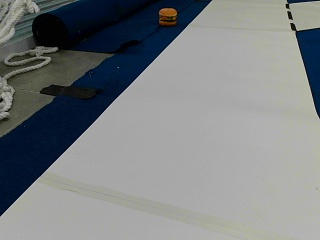burger: (158, 6, 178, 26)
